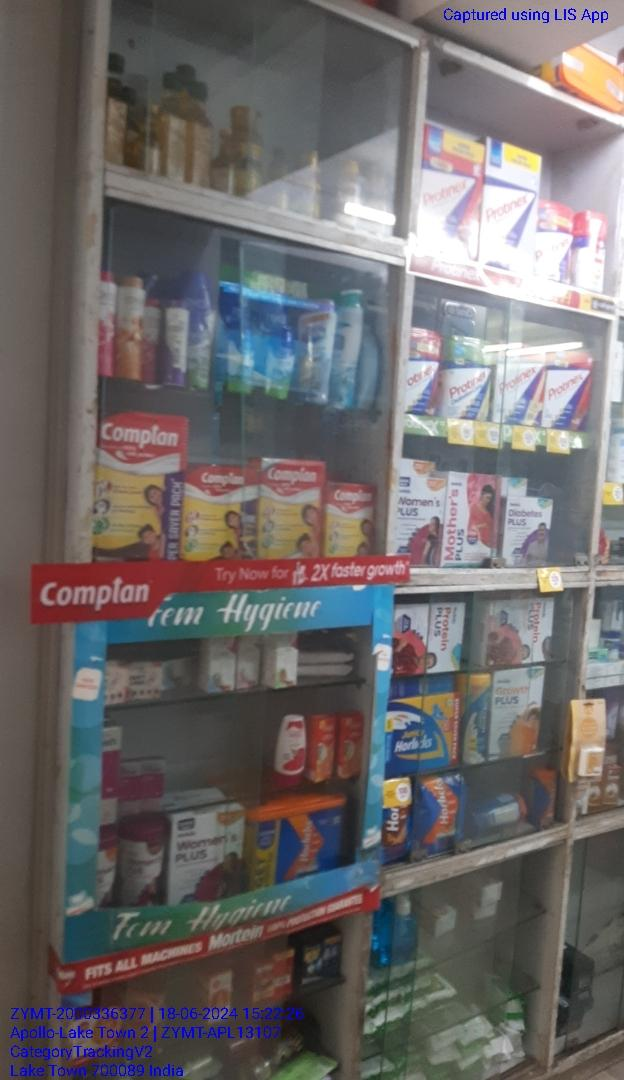COMPLAN_CHOCOLATE_1_KG_PACK: (96, 414, 185, 560)
COMPLAN_CHOCOLATE_500_GMS_PACK: (186, 465, 255, 559)
COMPLAN_CREAMY_CLASSIC_500_G_PACK: (259, 459, 325, 561)
HORLICK_MALT_1_KG_CONTAINER: (250, 800, 353, 879)
